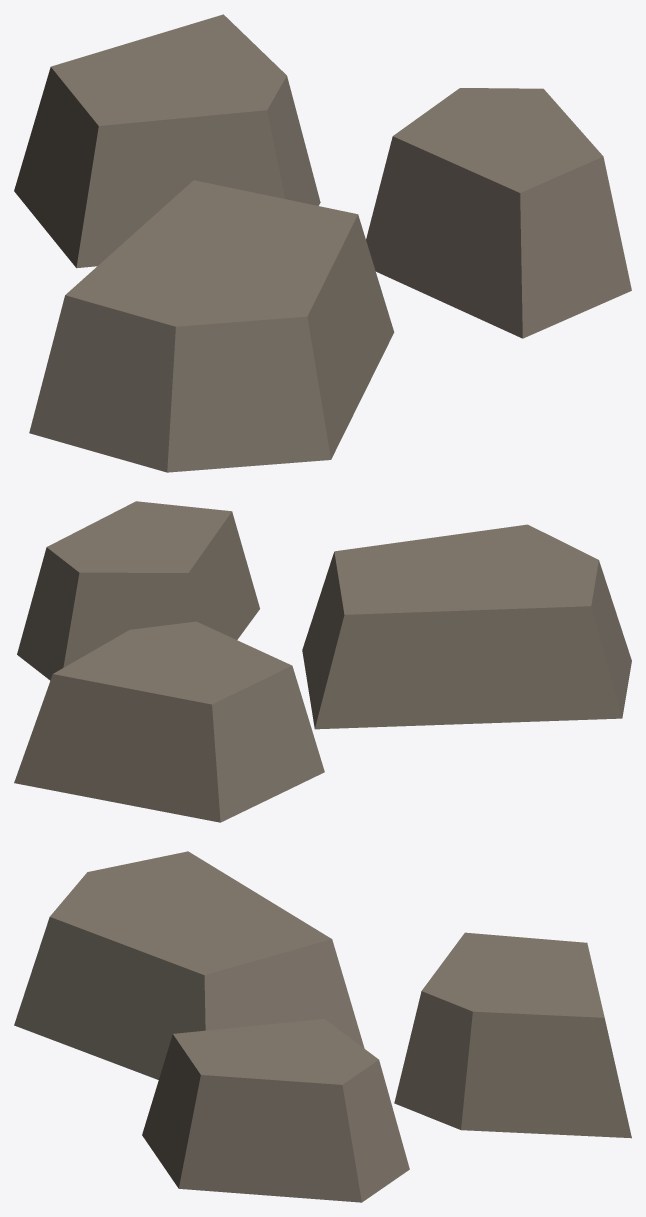
Rendered from SM_Env_Pebbles_01.glb.
3 views of the same model, one above another, from view 1: azimuth 30°, elevation 25°; view 2: azimuth 150°, elevation 25°; view 3: azimuth 270°, elevation 25° (orthographic). The views are drawn at different scales.
Parts seen in each view (by area): view 1: SM_Env_Pebbles_01; view 2: SM_Env_Pebbles_01; view 3: SM_Env_Pebbles_01.
Part boxes in pixels (x1=…): SM_Env_Pebbles_01: x1=14, y1=14, x2=631, y2=472; SM_Env_Pebbles_01: x1=14, y1=501, x2=631, y2=822; SM_Env_Pebbles_01: x1=14, y1=851, x2=631, y2=1202.
Size of the model in its own units: 0.7885 by 0.153 by 0.7959.
1 material, 1 textured.
